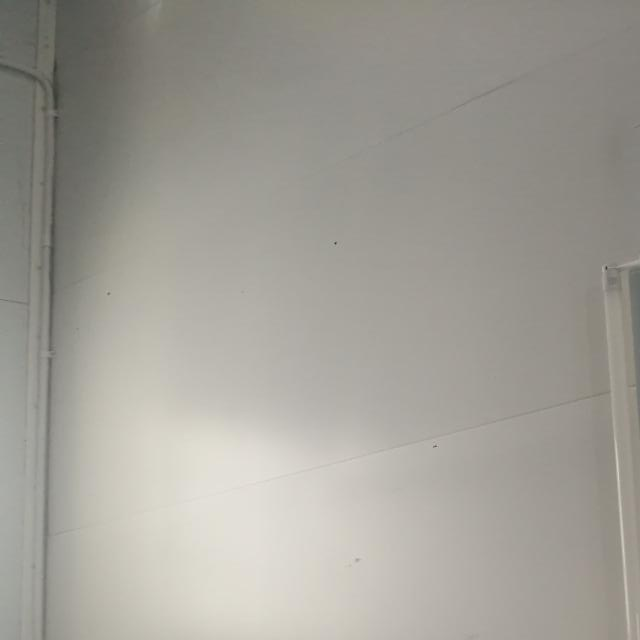fluorescent tube: (556, 243, 640, 640)
